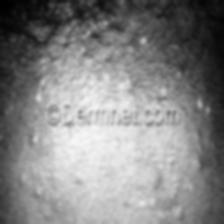Toxin: (56, 38, 224, 110), (108, 136, 200, 224), (0, 55, 48, 193)
